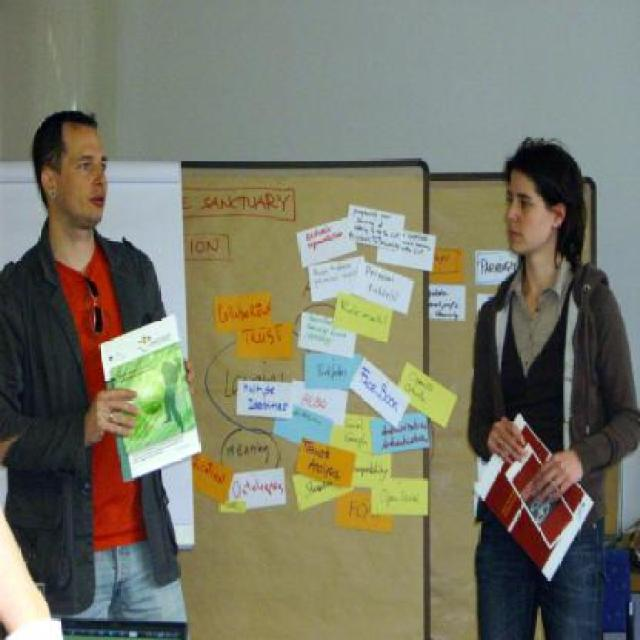obstacle: (0, 106, 189, 640), (468, 138, 638, 638), (0, 473, 65, 639)
